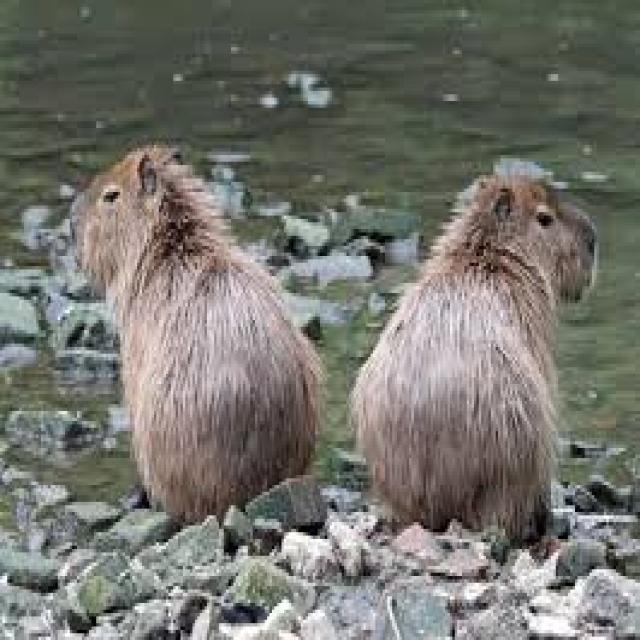capy: (70, 140, 322, 512), (349, 171, 598, 544)
